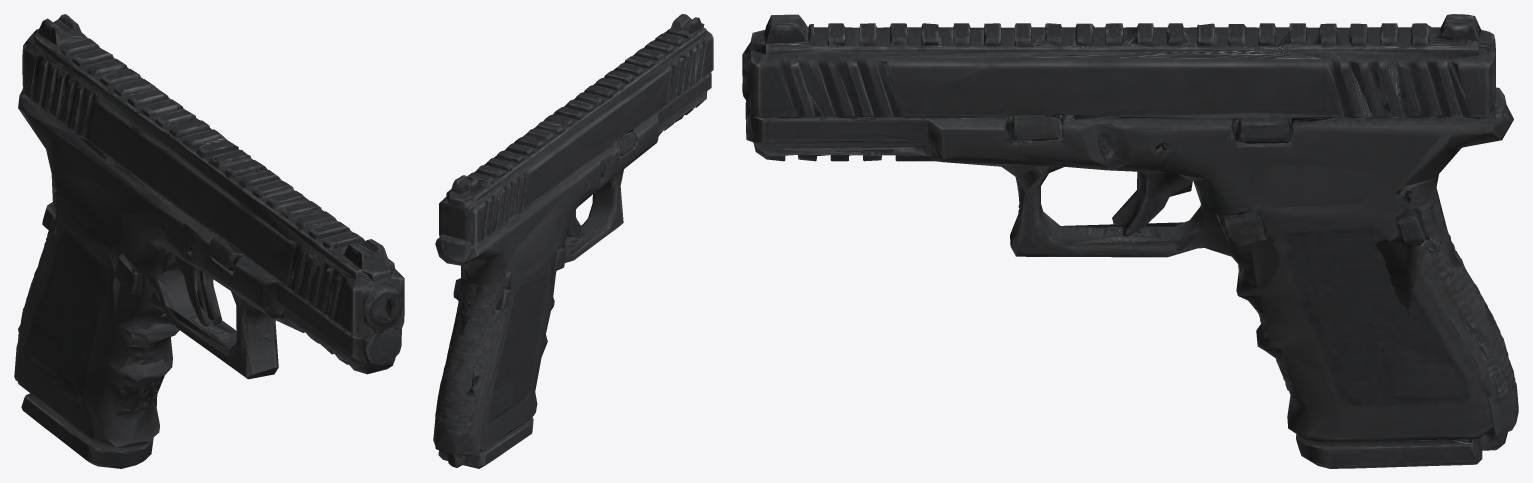
The model's file is glock19.glb.
3 views of the same model, side by side, from view 1: azimuth 30°, elevation 25°; view 2: azimuth 150°, elevation 25°; view 3: azimuth 270°, elevation 25° (orthographic). The views are drawn at different scales.
Visible parts, largest first — view 1: model, mesh_lod; view 2: model, mesh_lod; view 3: model, mesh_lod.
Part boxes in pixels (x1=…): model: x1=14, y1=14, x2=404, y2=468; mesh_lod: x1=16, y1=15, x2=404, y2=468; model: x1=433, y1=14, x2=713, y2=468; mesh_lod: x1=435, y1=14, x2=713, y2=468; model: x1=742, y1=14, x2=1518, y2=468; mesh_lod: x1=742, y1=14, x2=1514, y2=466.
Size of the model in its own units: 0.0236 by 0.1242 by 0.2.
Materials: 1 (1 with a texture image).
